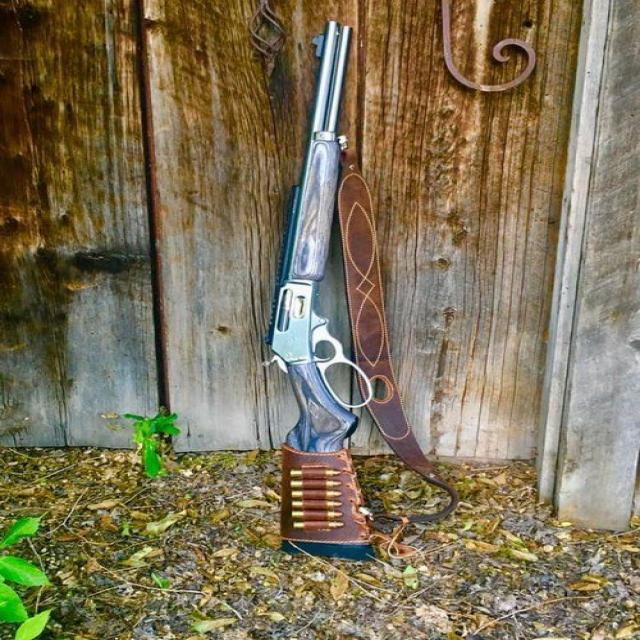shotgun: (241, 5, 462, 625)
